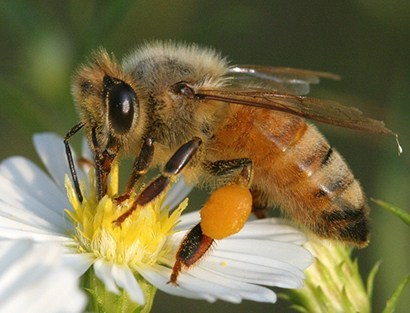bee: (51, 16, 402, 290)
